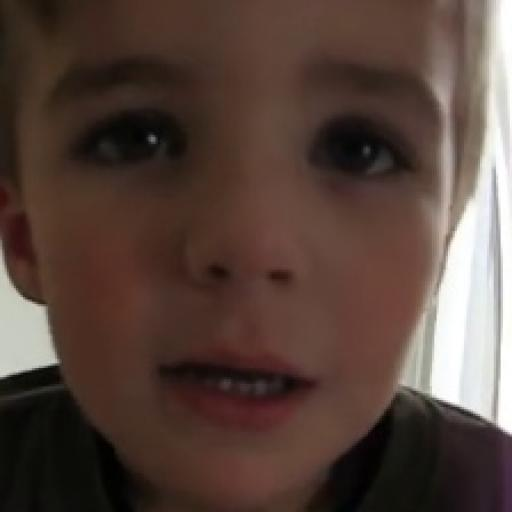Autism: (14, 13, 489, 497)
